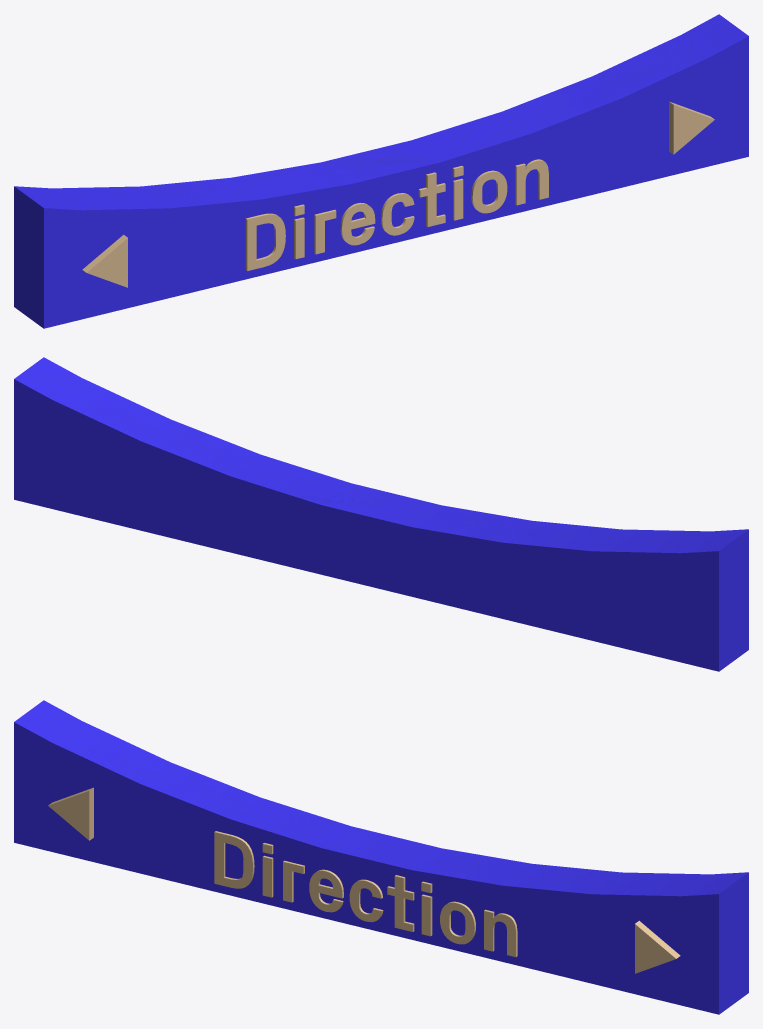
The model's file is ball-slider.dae.
3 renders of one model, top to bottom at view 1: azimuth 30°, elevation 25°; view 2: azimuth 150°, elevation 25°; view 3: azimuth 330°, elevation 25°, orthographic.
Visible parts, largest first — view 1: group_0 (×2), Direction_1 (×7), direction (×2); view 2: group_0 (×2); view 3: group_0 (×2), Direction_1 (×7), direction (×2).
Boxes of the visible parts, x1,y1,x2,y2 form: group_0 (×2): (14, 14, 748, 328); Direction_1 (×7): (245, 159, 548, 270); direction (×2): (82, 101, 714, 287); group_0 (×2): (14, 357, 748, 671); group_0 (×2): (14, 700, 748, 1014); Direction_1 (×7): (214, 831, 517, 957); direction (×2): (48, 787, 680, 973).
Size of the model in its own units: 108 by 9.13 by 17.74.
